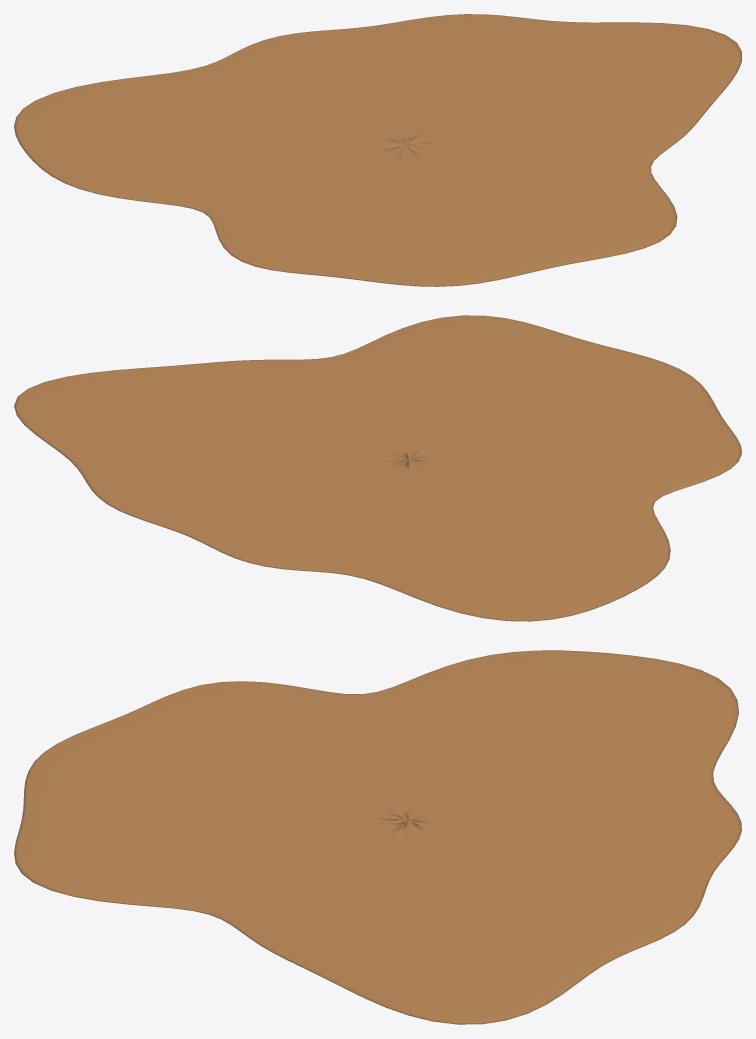
Rendered from savory-syrup.glb.
The picture shows the model from 3 angles, top to bottom: view 1: azimuth 30°, elevation 25°; view 2: azimuth 150°, elevation 25°; view 3: azimuth 270°, elevation 25°; orthographic projection. The views are drawn at different scales.
Parts seen in each view (by area): view 1: savory-syrup; view 2: savory-syrup; view 3: savory-syrup.
Boxes of the visible parts, x1=… form: savory-syrup: x1=14, y1=14, x2=741, y2=286; savory-syrup: x1=14, y1=315, x2=741, y2=621; savory-syrup: x1=14, y1=650, x2=741, y2=1024.
Size of the model in its own units: 1.86 by 0.00784 by 1.53.
